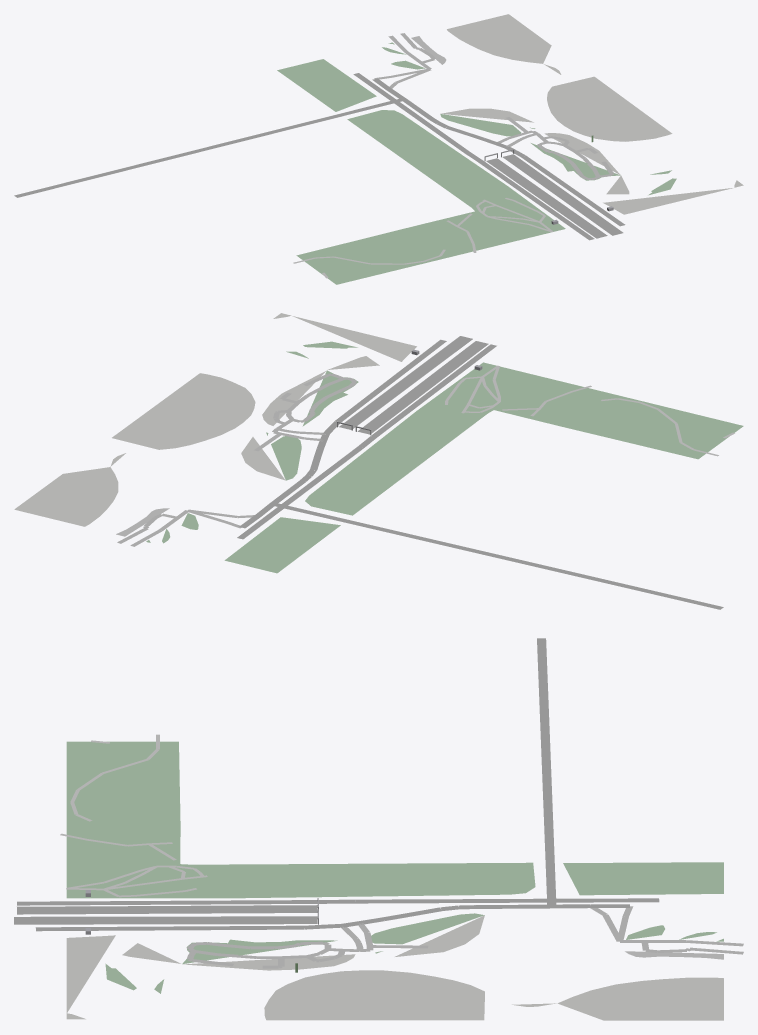
The picture shows the model from 3 angles, top to bottom: view 1: azimuth 30°, elevation 25°; view 2: azimuth 150°, elevation 25°; view 3: azimuth 270°, elevation 25°; orthographic projection. The views are drawn at different scales.
Bounding box in the file's own units: 685 × 8.75 × 555.
